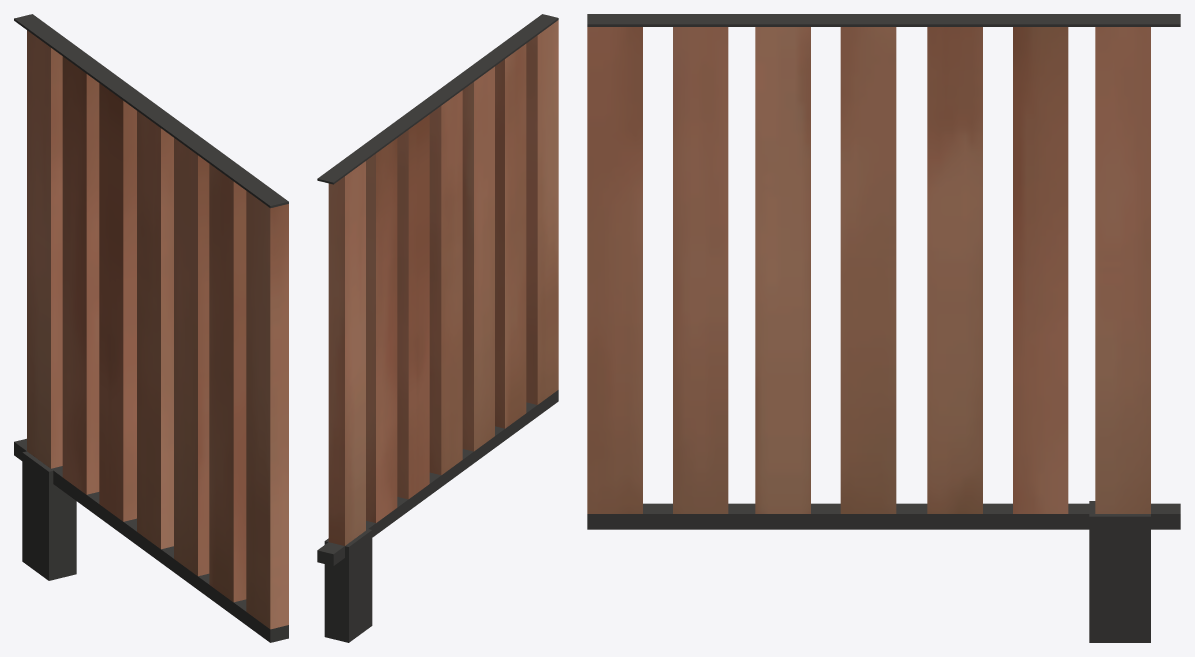
Rendered from FenceContemp_Modular.fbx.
3 views of the same model, side by side, from view 1: azimuth 30°, elevation 25°; view 2: azimuth 150°, elevation 25°; view 3: azimuth 270°, elevation 25° (orthographic). The views are drawn at different scales.
Parts seen in each view (by area): view 1: FenceContemp_Modular; view 2: FenceContemp_Modular; view 3: FenceContemp_Modular.
Boxes of the visible parts, x1,y1,x2,y2 form: FenceContemp_Modular: (14,14,288,642); FenceContemp_Modular: (317,14,558,642); FenceContemp_Modular: (587,14,1180,642).
Size of the model in its own units: 10.29 by 190 by 166.
